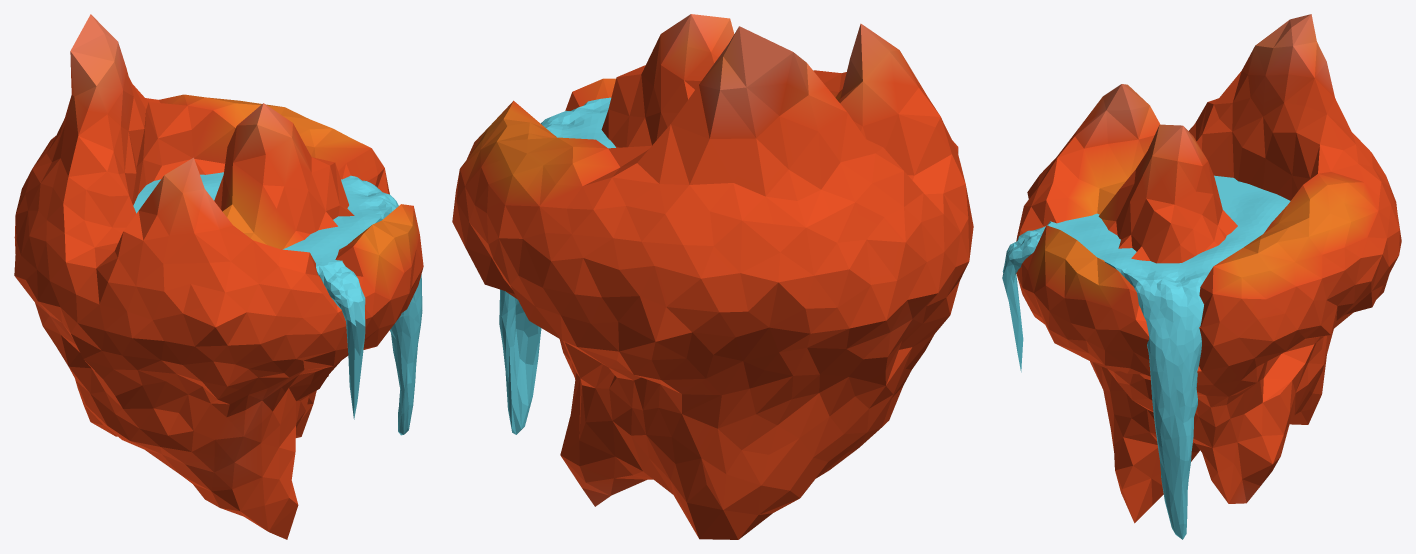
File: island2.glb
The picture shows the model from 3 angles, left to right: view 1: azimuth 30°, elevation 25°; view 2: azimuth 150°, elevation 25°; view 3: azimuth 270°, elevation 25°; orthographic projection. The views are drawn at different scales.
Parts seen in each view (by area): view 1: Icosphere, Plane; view 2: Icosphere, Plane; view 3: Icosphere, Plane.
Part boxes in pixels (left/top/right/bottom): Icosphere: left=14, top=14, right=423, bottom=539; Plane: left=133, top=172, right=422, bottom=435; Icosphere: left=452, top=14, right=973, bottom=539; Plane: left=499, top=97, right=615, bottom=434; Icosphere: left=1016, top=14, right=1401, bottom=523; Plane: left=1002, top=175, right=1290, bottom=539.
Size of the model in its own units: 5.99 by 7.68 by 6.03.
